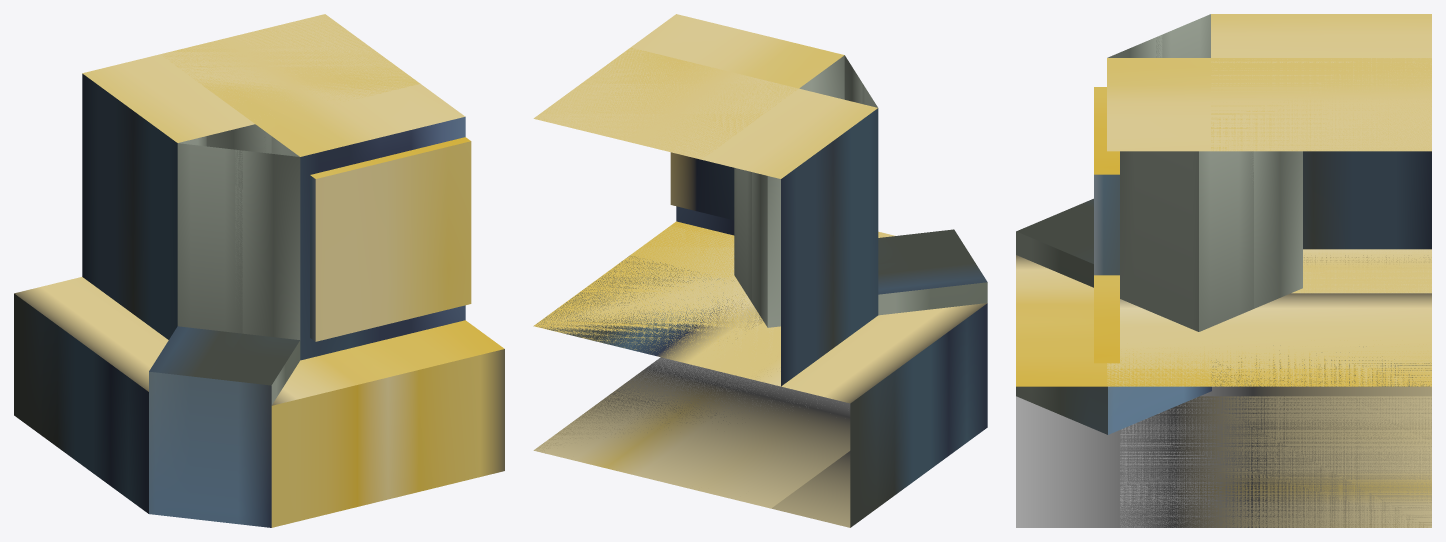
3 renders of one model, left to right at view 1: azimuth 30°, elevation 25°; view 2: azimuth 150°, elevation 25°; view 3: azimuth 270°, elevation 25°, orthographic. The views are drawn at different scales.
Parts seen in each view (by area): view 1: frame; view 2: frame; view 3: frame.
Part boxes in pixels (x1=…): frame: x1=14, y1=14, x2=504, y2=527; frame: x1=533, y1=14, x2=987, y2=527; frame: x1=1016, y1=14, x2=1431, y2=527.
Size of the model in its own units: 1 by 1 by 1.
